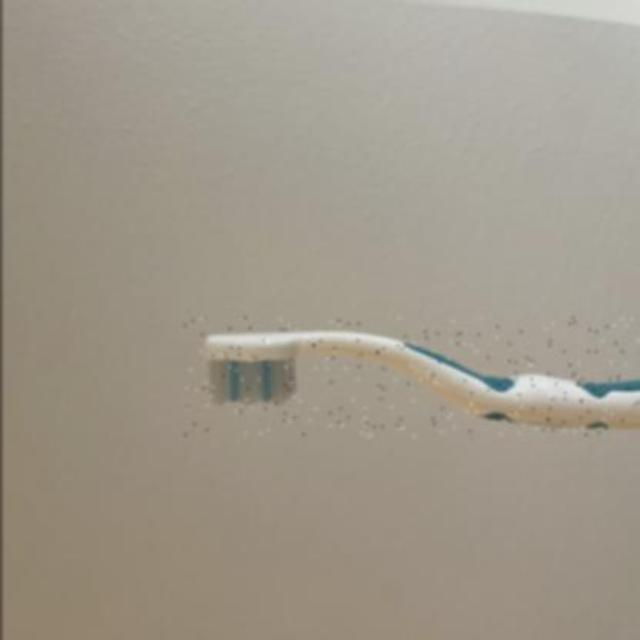toothbrush: (180, 317, 640, 437)
